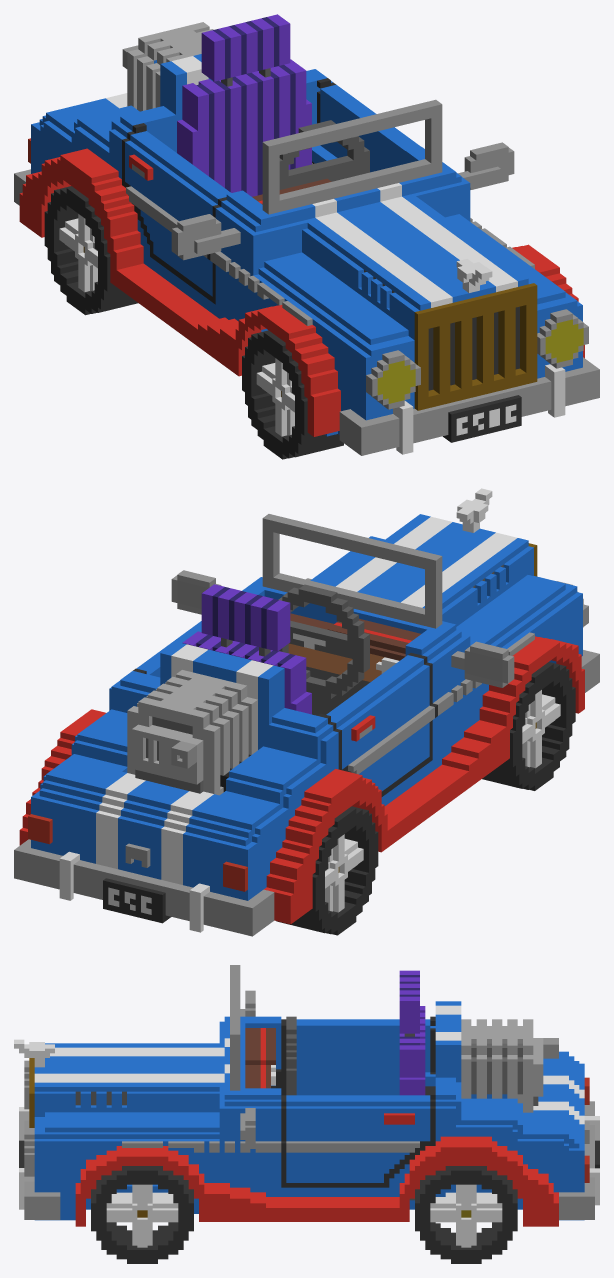
Rendered from voxel_classic_car.glb.
The picture shows the model from 3 angles, top to bottom: view 1: azimuth 30°, elevation 25°; view 2: azimuth 150°, elevation 25°; view 3: azimuth 270°, elevation 25°; orthographic projection. The views are drawn at different scales.
Visible parts, largest first — view 1: Object_2; view 2: Object_2; view 3: Object_2.
Part boxes in pixels (bbox=[...]): Object_2: bbox=[14, 14, 599, 459]; Object_2: bbox=[14, 488, 599, 936]; Object_2: bbox=[14, 965, 599, 1263].
Bounding box in the file's own units: 6.2 × 4.8 × 11.4.
Materials: 1 (1 with a texture image).
